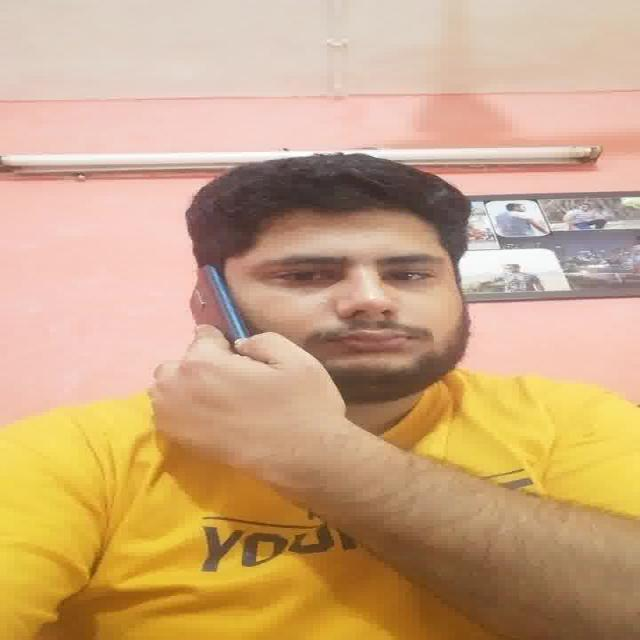Phone: (185, 261, 251, 359)
